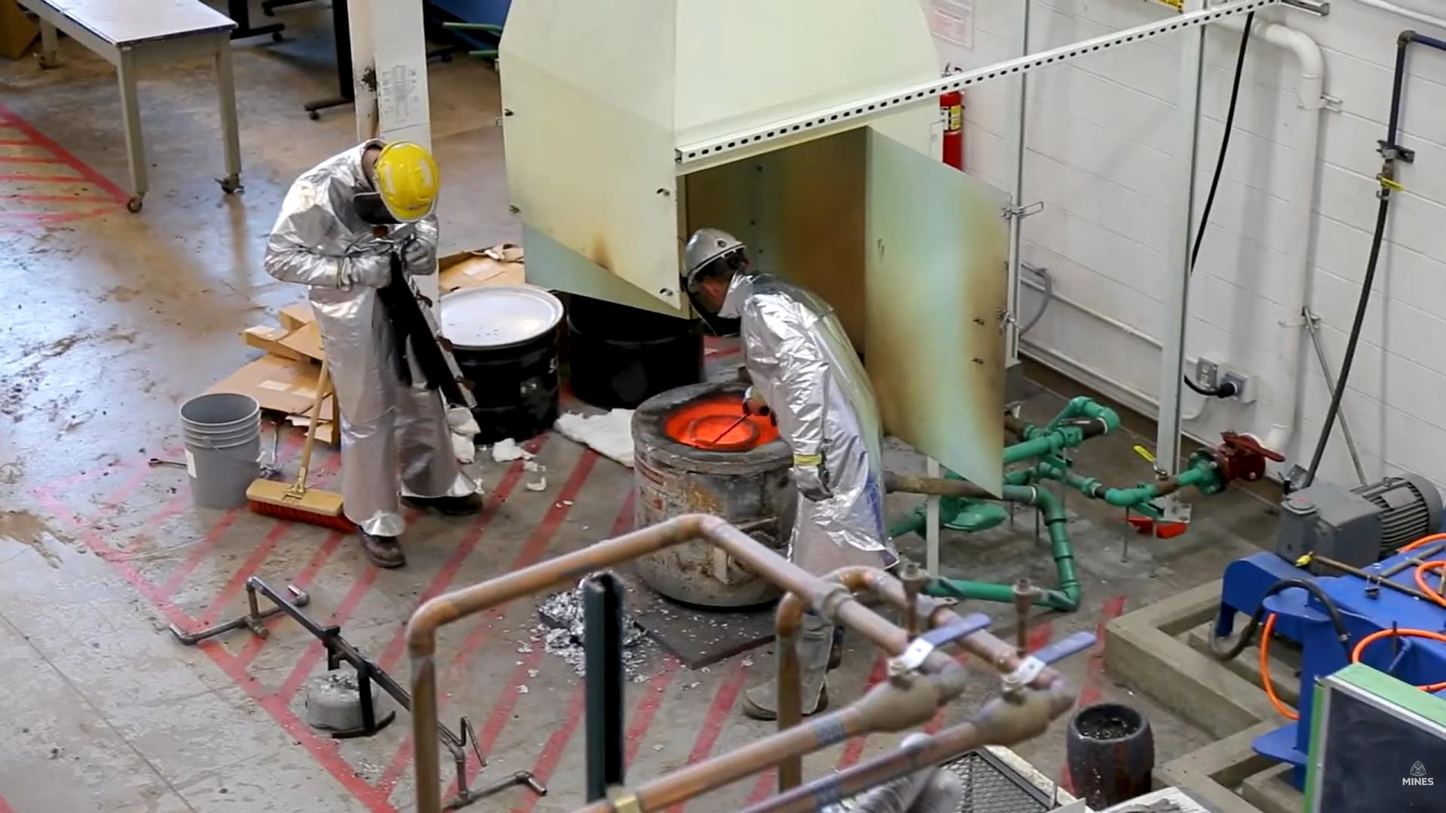helmet: (364, 136, 447, 229), (674, 219, 753, 295), (677, 221, 752, 278)
vest: (637, 285, 847, 479)
